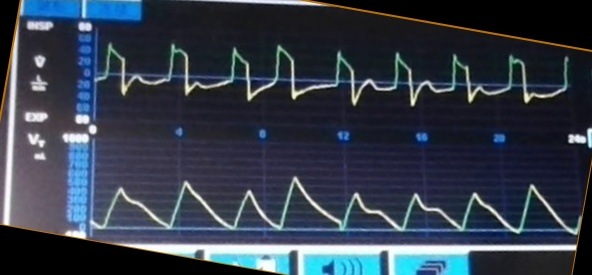Premature_cycling Flow: (98, 40, 570, 117)
Premature_cycling Volume: (95, 164, 576, 238)
